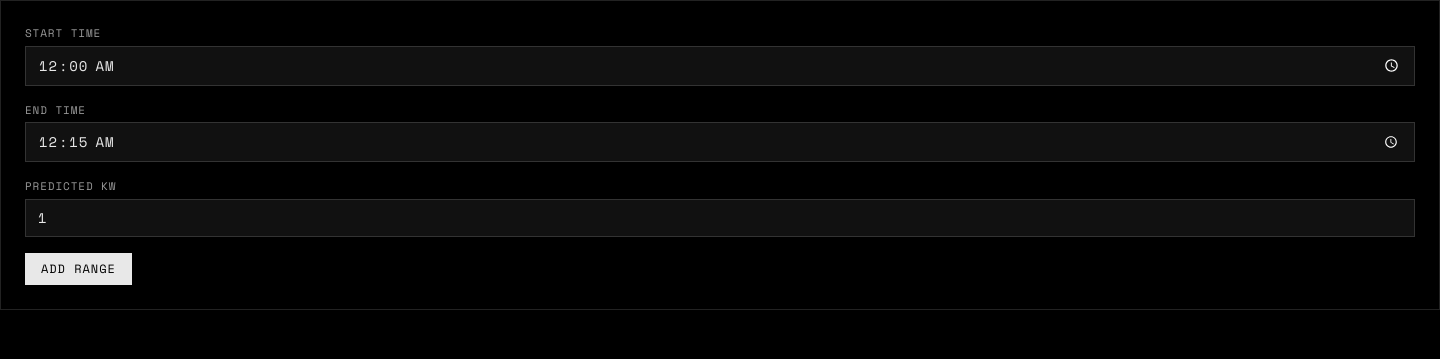
Test: ConsumptionForm › shows a validation error and does not submit when end <= start
Replace the text in the time field labelled "Start time" with "19:00" at coordinates (720, 66), box left=25, top=46, right=1415, bottom=86
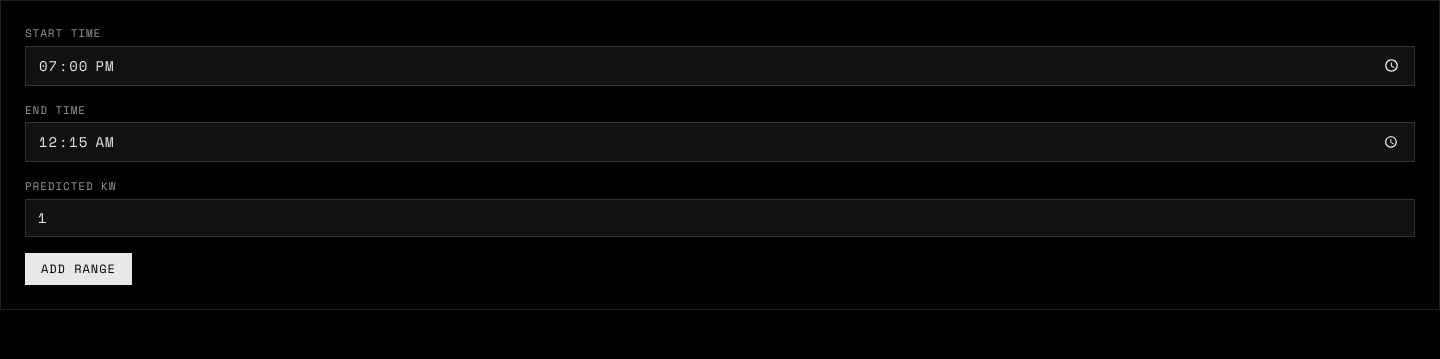
Replace the text in the time field labelled "End time" with "18:00" at coordinates (720, 142), box left=25, top=122, right=1415, bottom=162
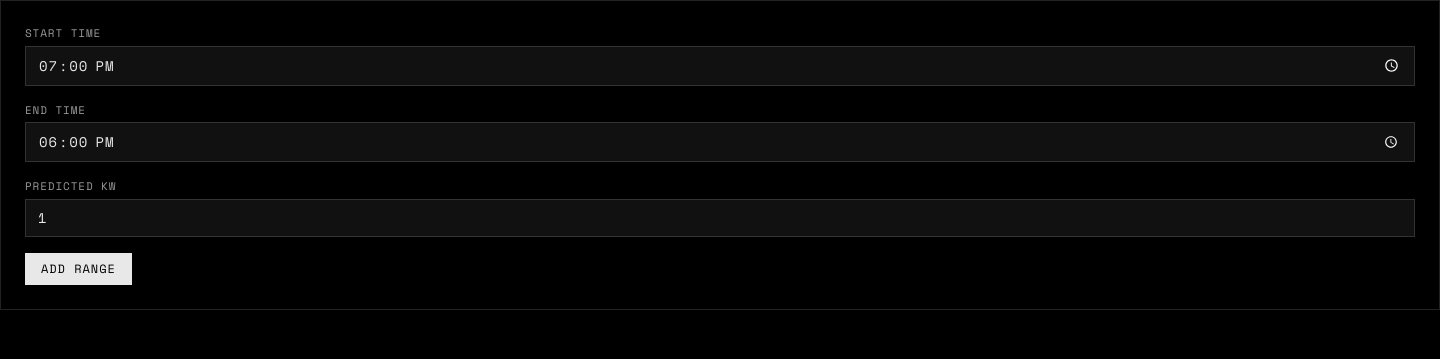
Replace the text in the number field labelled "Predicted kW" with "4" at coordinates (720, 218), box left=25, top=198, right=1415, bottom=236
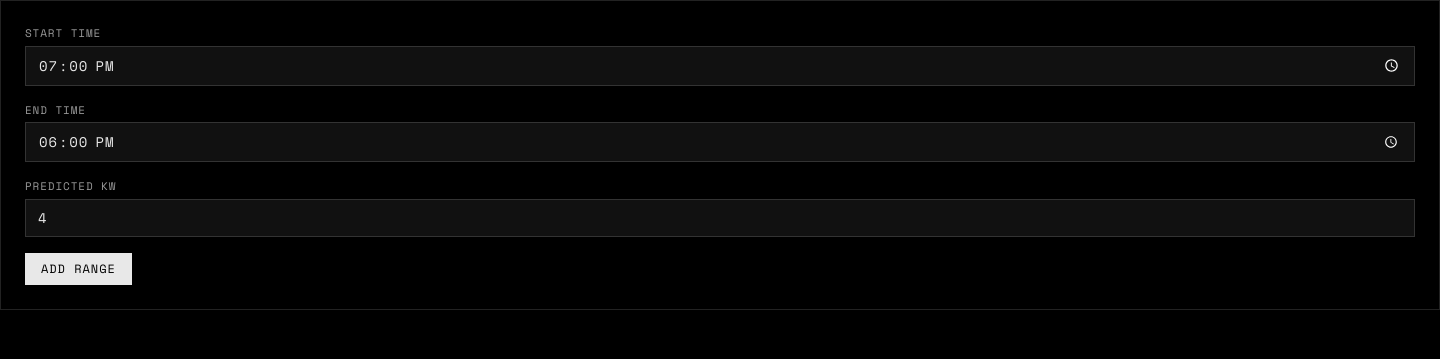
Click the button "Add range" at coordinates (78, 268), box left=25, top=252, right=132, bottom=284
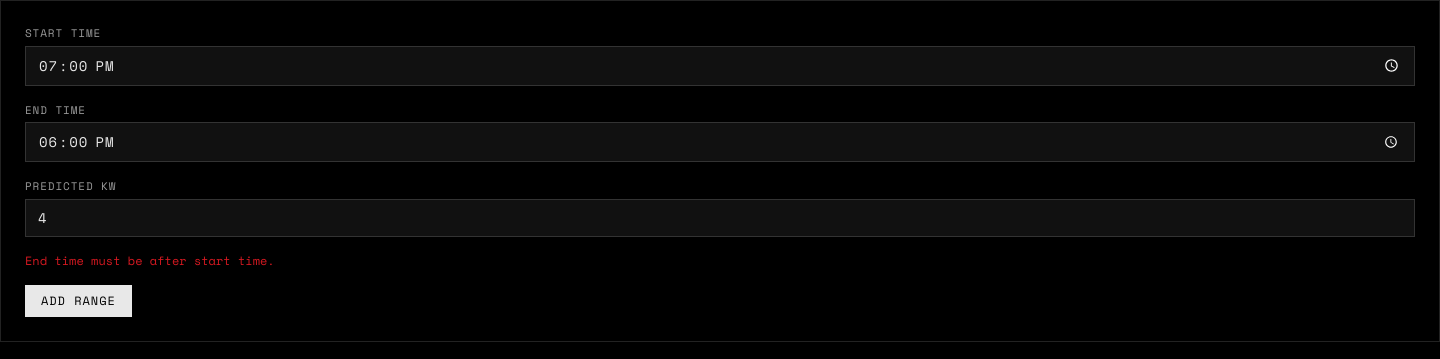
Expected: the text "End time must be after start time." is shown, left=25, top=252, right=275, bottom=268
